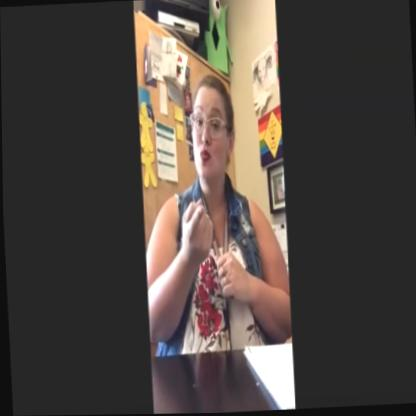HowAreYou: (180, 187, 251, 310)
